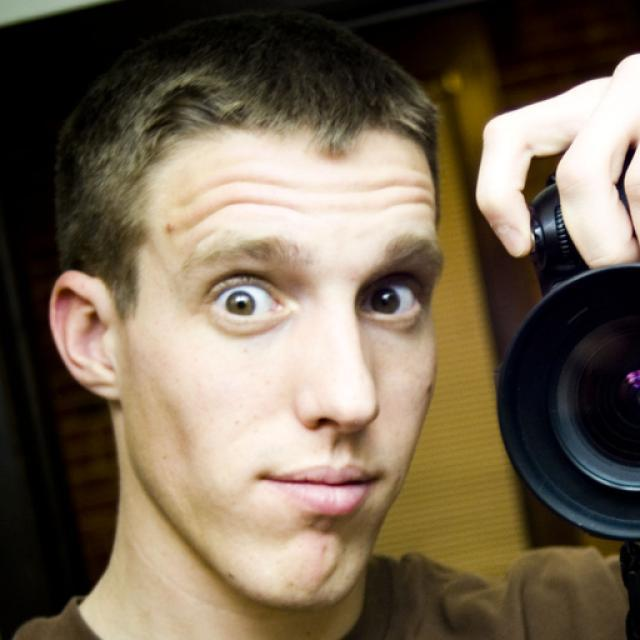surprise: (120, 123, 441, 608)
